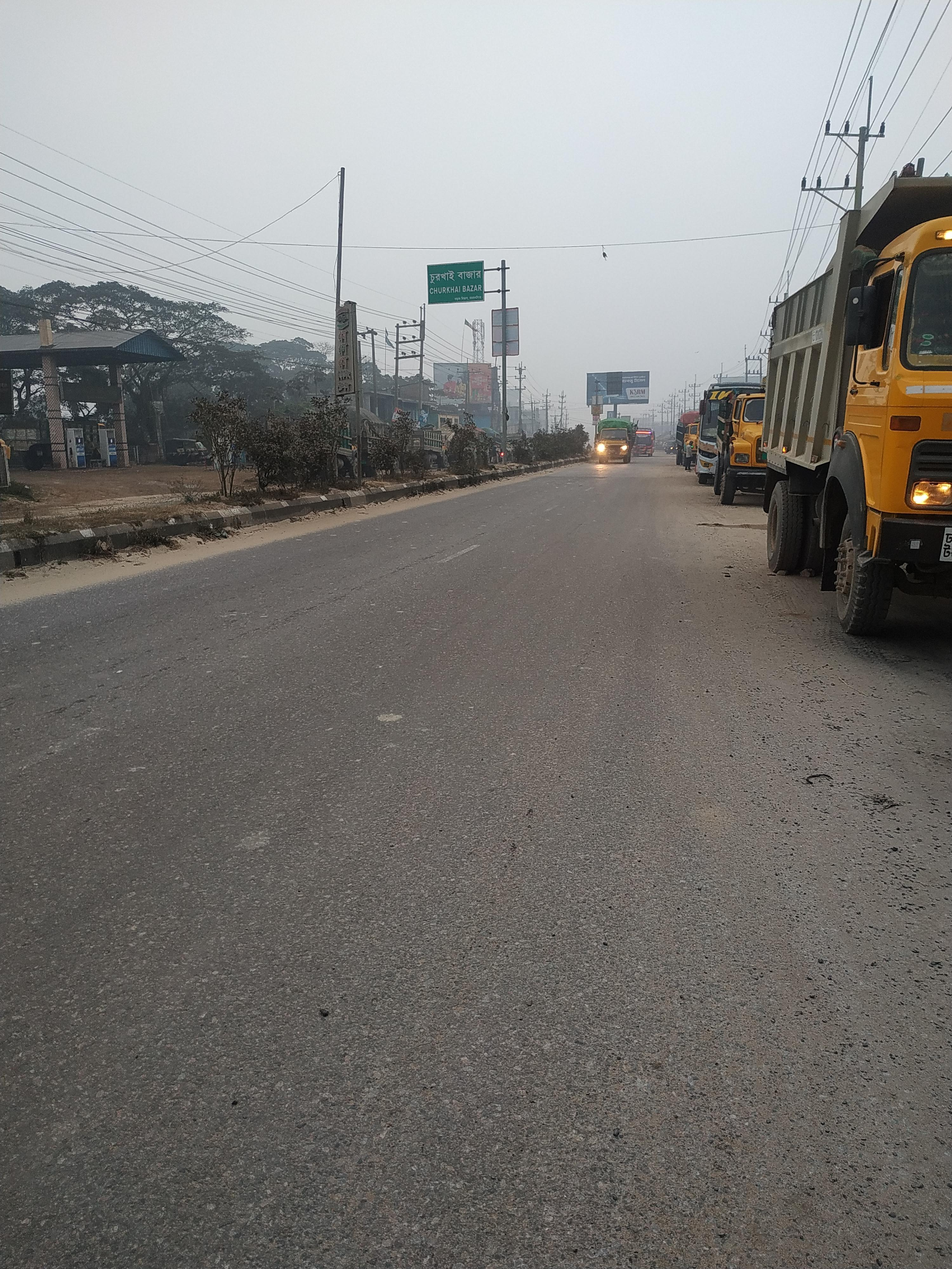Bus: (628, 419, 665, 464)
Truck: (746, 164, 952, 657), (590, 414, 637, 472)
